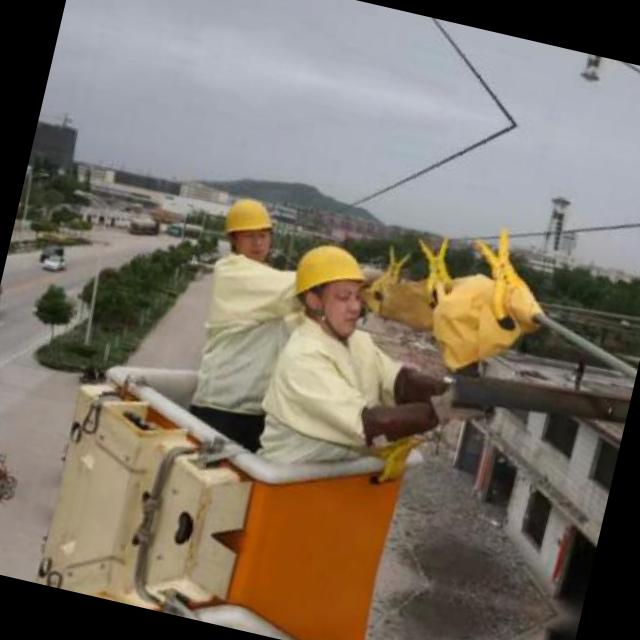helmet: (274, 228, 382, 338), (212, 188, 284, 267)
